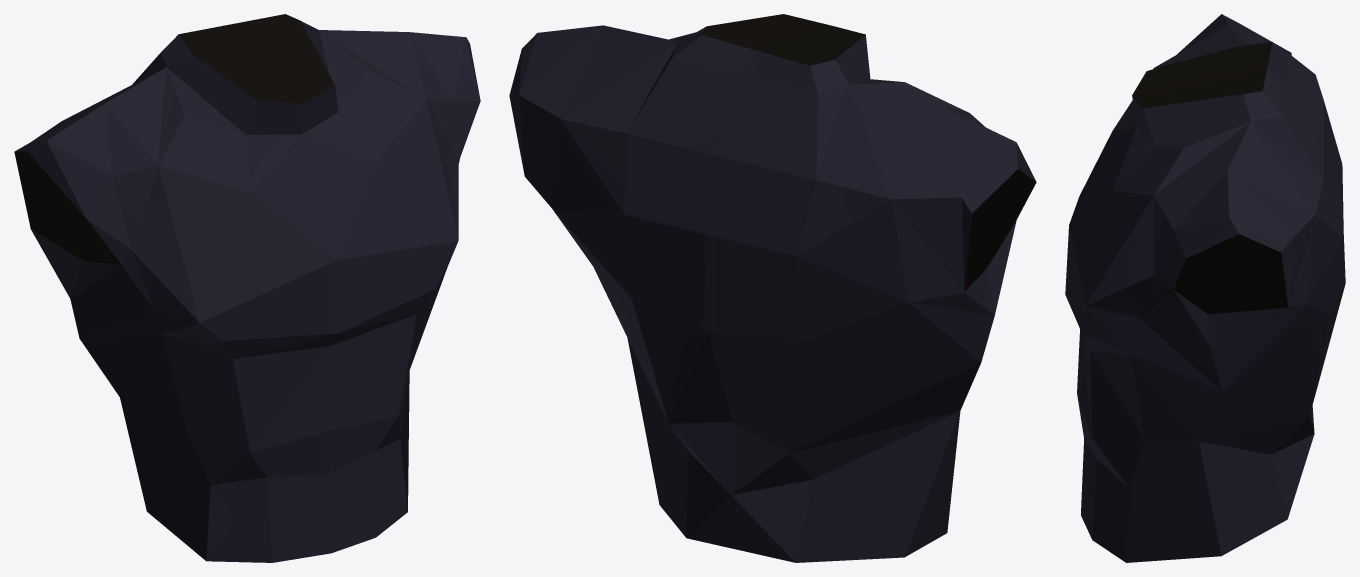
The model's file is shirt.fbx.
3 renders of one model, left to right at view 1: azimuth 30°, elevation 25°; view 2: azimuth 150°, elevation 25°; view 3: azimuth 270°, elevation 25°, orthographic. The views are drawn at different scales.
Visible parts, largest first — view 1: shirt; view 2: shirt; view 3: shirt.
Part boxes in pixels (x1=…): shirt: x1=14, y1=14, x2=480, y2=562; shirt: x1=509, y1=14, x2=1036, y2=562; shirt: x1=1065, y1=14, x2=1345, y2=562.
Bounding box in the file's own units: 54.72 × 54.46 × 30.83.
